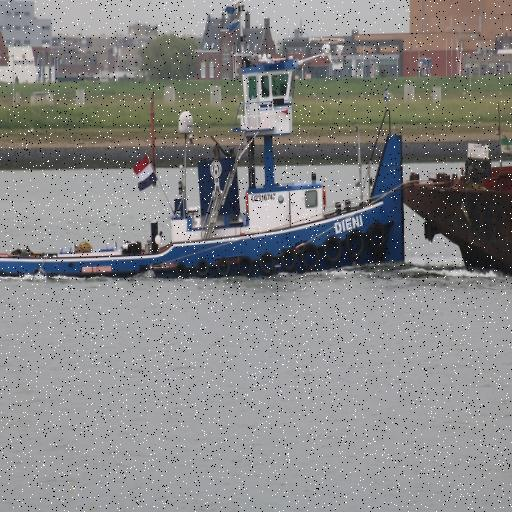tugboat: (1, 1, 411, 289)
